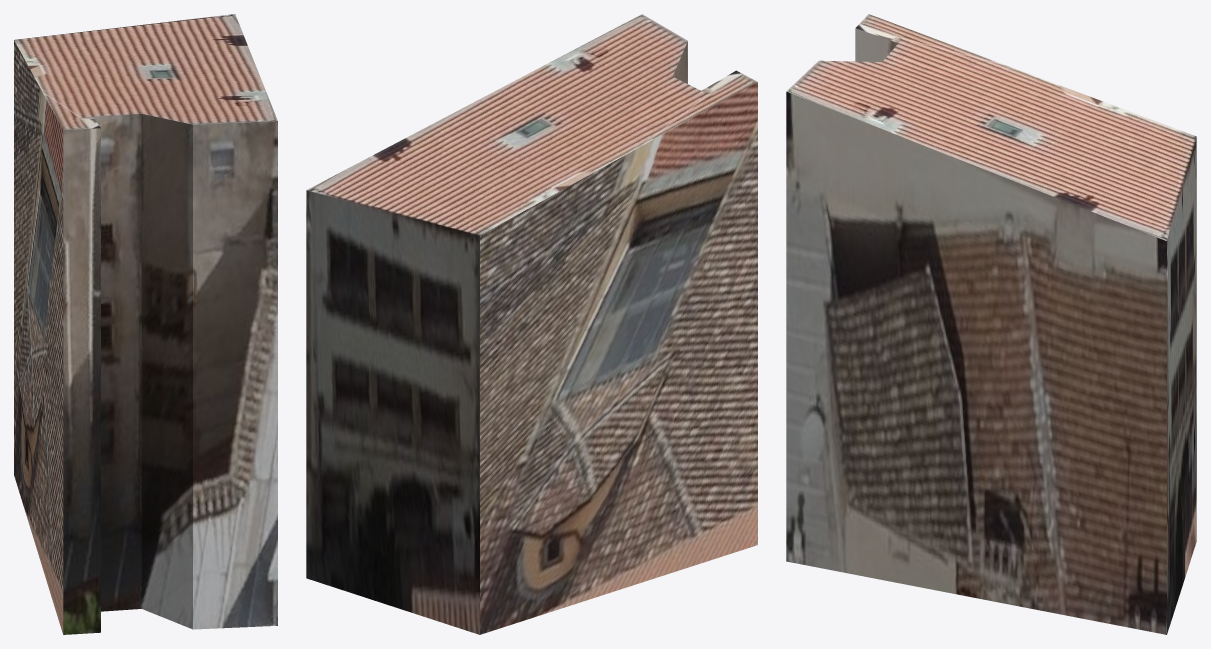
3 renders of one model, left to right at view 1: azimuth 30°, elevation 25°; view 2: azimuth 150°, elevation 25°; view 3: azimuth 270°, elevation 25°, orthographic. The views are drawn at different scales.
Parts seen in each view (by area): view 1: Z_UP; view 2: Z_UP; view 3: Z_UP.
Boxes of the visible parts, x1,y1,x2,y2 form: Z_UP: [14, 14, 277, 634]; Z_UP: [306, 14, 757, 634]; Z_UP: [786, 14, 1196, 634].
Size of the model in its own units: 11.01 by 15.99 by 12.65.
Materials: 2 (1 with a texture image).
